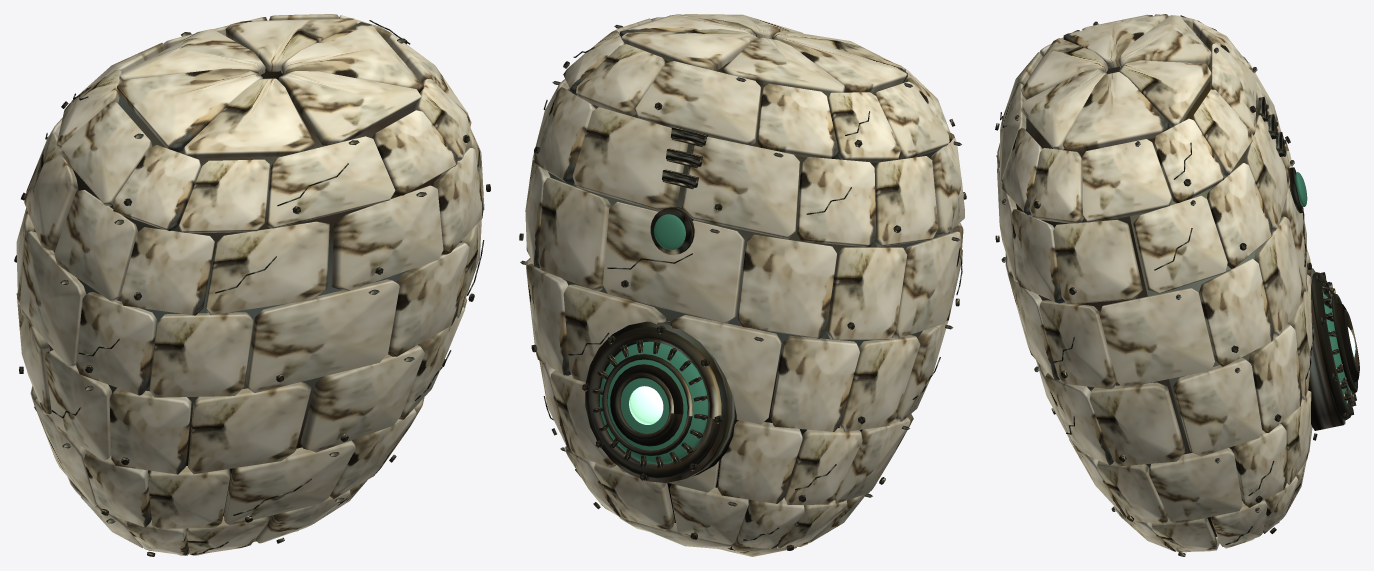
Rendered from body-bastion-v3.glb.
The picture shows the model from 3 angles, left to right: view 1: azimuth 30°, elevation 25°; view 2: azimuth 150°, elevation 25°; view 3: azimuth 270°, elevation 25°; orthographic projection. The views are drawn at different scales.
Parts seen in each view (by area): view 1: bastion-ceramic, bastion-steel, bastion-brass; view 2: bastion-ceramic, bastion-brass, bastion-steel, bastion-glass, bastion-light; view 3: bastion-ceramic, bastion-steel, bastion-brass, bastion-glass.
Part boxes in pixels (x1,y1,x2,y2): bastion-ceramic: [16, 14, 484, 555]; bastion-steel: [34, 20, 484, 554]; bastion-brass: [14, 38, 490, 556]; bastion-ceramic: [525, 14, 964, 556]; bastion-brass: [519, 61, 966, 550]; bastion-steel: [520, 25, 962, 540]; bastion-glass: [599, 214, 708, 464]; bastion-light: [629, 386, 663, 424]; bastion-ceramic: [997, 14, 1312, 552]; bastion-steel: [996, 15, 1359, 544]; bastion-brass: [995, 104, 1359, 556]; bastion-glass: [1295, 172, 1352, 404].
Size of the model in its own units: 1.3 by 1.52 by 1.06.
Materials: 5 (3 with a texture image).
